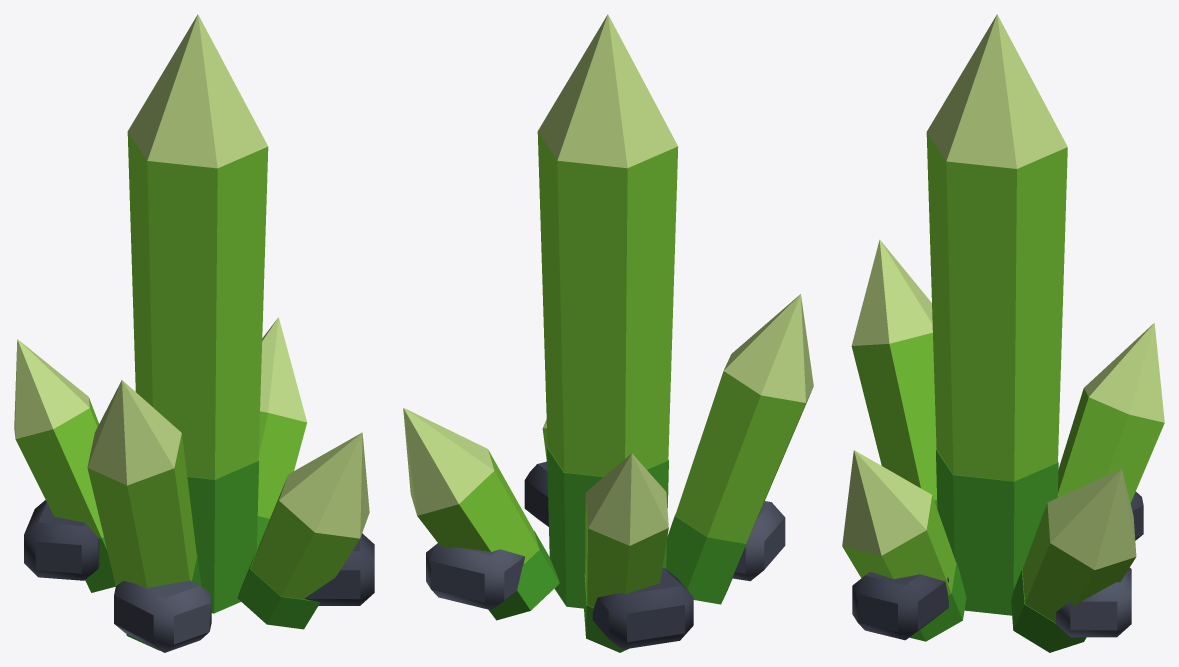
File: p_tree_crystal_1.glb
3 renders of one model, left to right at view 1: azimuth 30°, elevation 25°; view 2: azimuth 150°, elevation 25°; view 3: azimuth 270°, elevation 25°, orthographic.
Visible parts, largest first — view 1: body; view 2: body; view 3: body.
Part boxes in pixels (box(x1,y1,x2,y2)): body: box(14, 14, 374, 652); body: box(403, 14, 813, 652); body: box(842, 14, 1164, 652).
Size of the model in its own units: 2.32 by 4.32 by 2.13.
